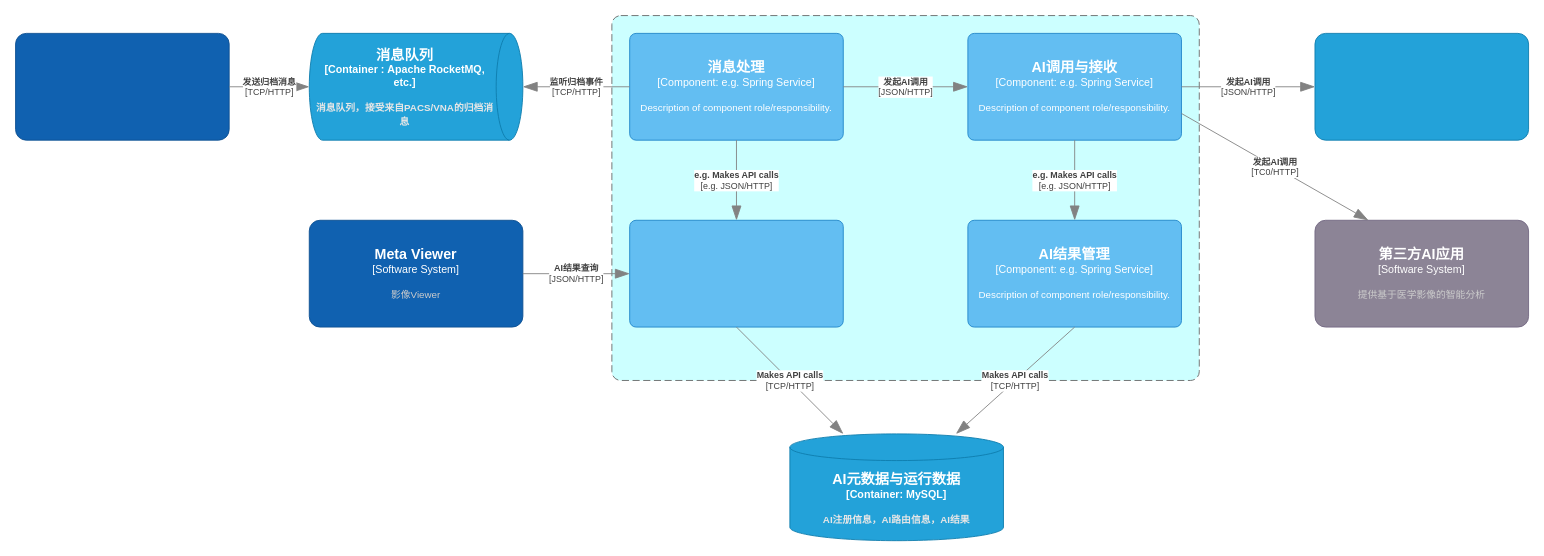
Image size: 1544x556. Some labels were removed from this diagram. Here are the shapes that lost their labels. From the top down, the box of each, then its label:
(15, 32, 229, 140): PACS/VNA [Software System] 影像归档，调阅
(1314, 32, 1529, 140): UII [Container: Python] 提供基于医疗影像的智能分析
(611, 15, 1199, 380): Exchange [Container]
(629, 219, 843, 327): AI路由 [Component: Spring Service] AI注册管理，AI路由，AI结果管理
